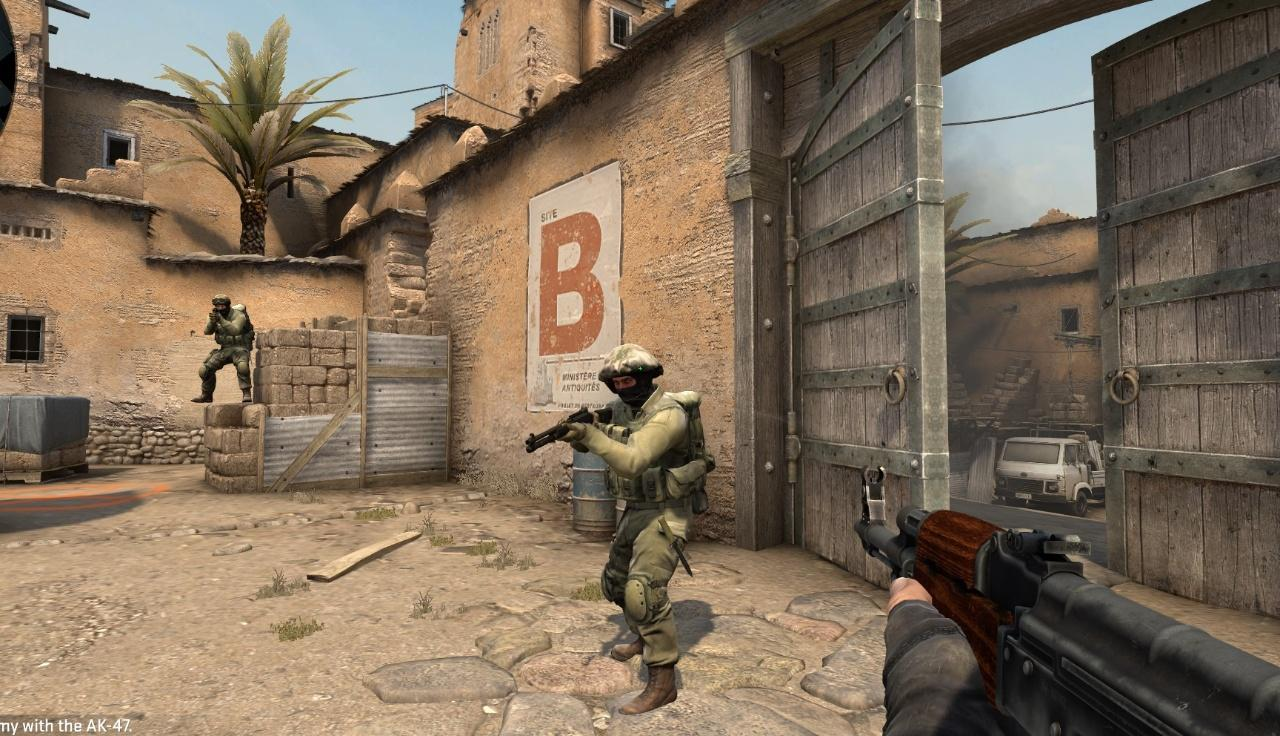ct: (576, 343, 708, 714), (192, 295, 254, 402)
cthead: (606, 346, 654, 406), (214, 295, 230, 316)
rifle: (854, 464, 1280, 736)
